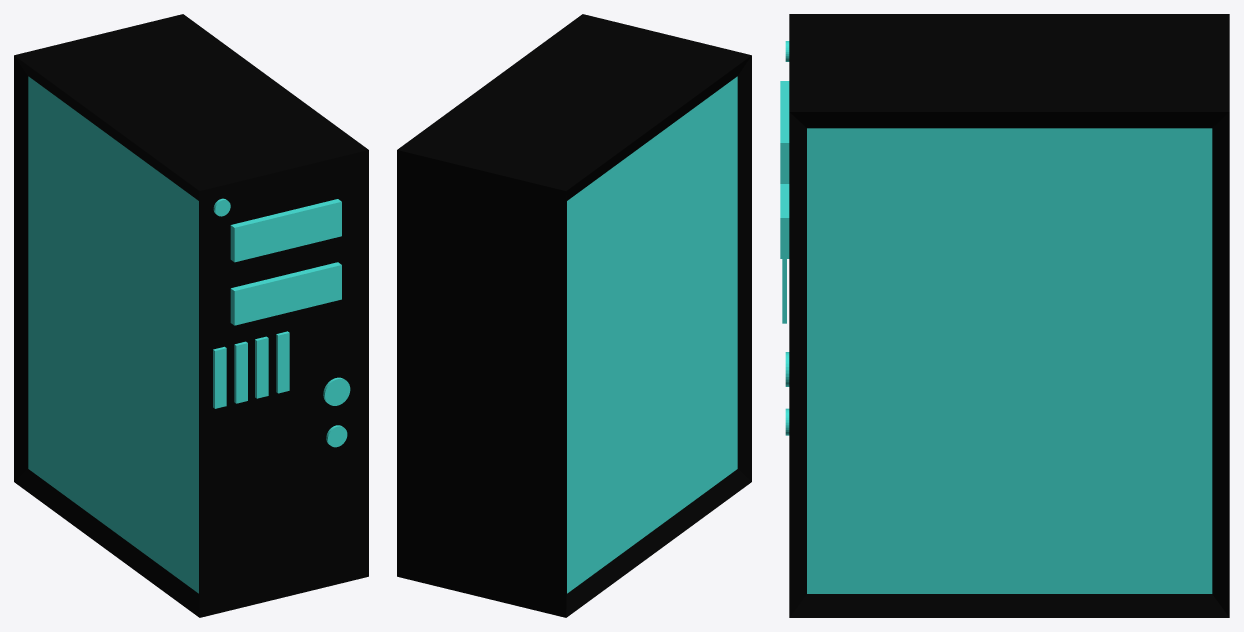
Rendered from PCBox.fbx.
3 renders of one model, left to right at view 1: azimuth 30°, elevation 25°; view 2: azimuth 150°, elevation 25°; view 3: azimuth 270°, elevation 25°, orthographic. The views are drawn at different scales.
Parts seen in each view (by area): view 1: PC, PC Glow; view 2: PC, PC Glow; view 3: PC Glow, PC.
Boxes of the visible parts, <box> form: PC: <box>14,14,368,617</box>; PC Glow: <box>28,76,350,593</box>; PC: <box>397,14,751,617</box>; PC Glow: <box>567,76,737,593</box>; PC Glow: <box>780,41,1212,593</box>; PC: <box>789,14,1229,617</box>.
Bounding box in the file's own units: 68.77 × 166 × 133.
